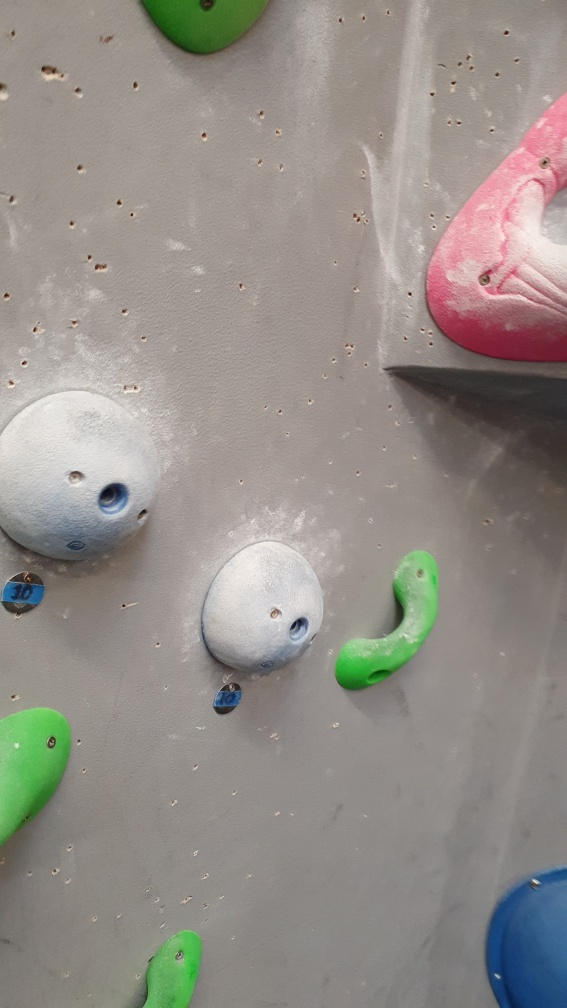Hand Start: (1, 572, 48, 616), (212, 679, 247, 719)
Pocket: (416, 91, 567, 374)
Sloper: (1, 389, 163, 565), (202, 539, 329, 677)
